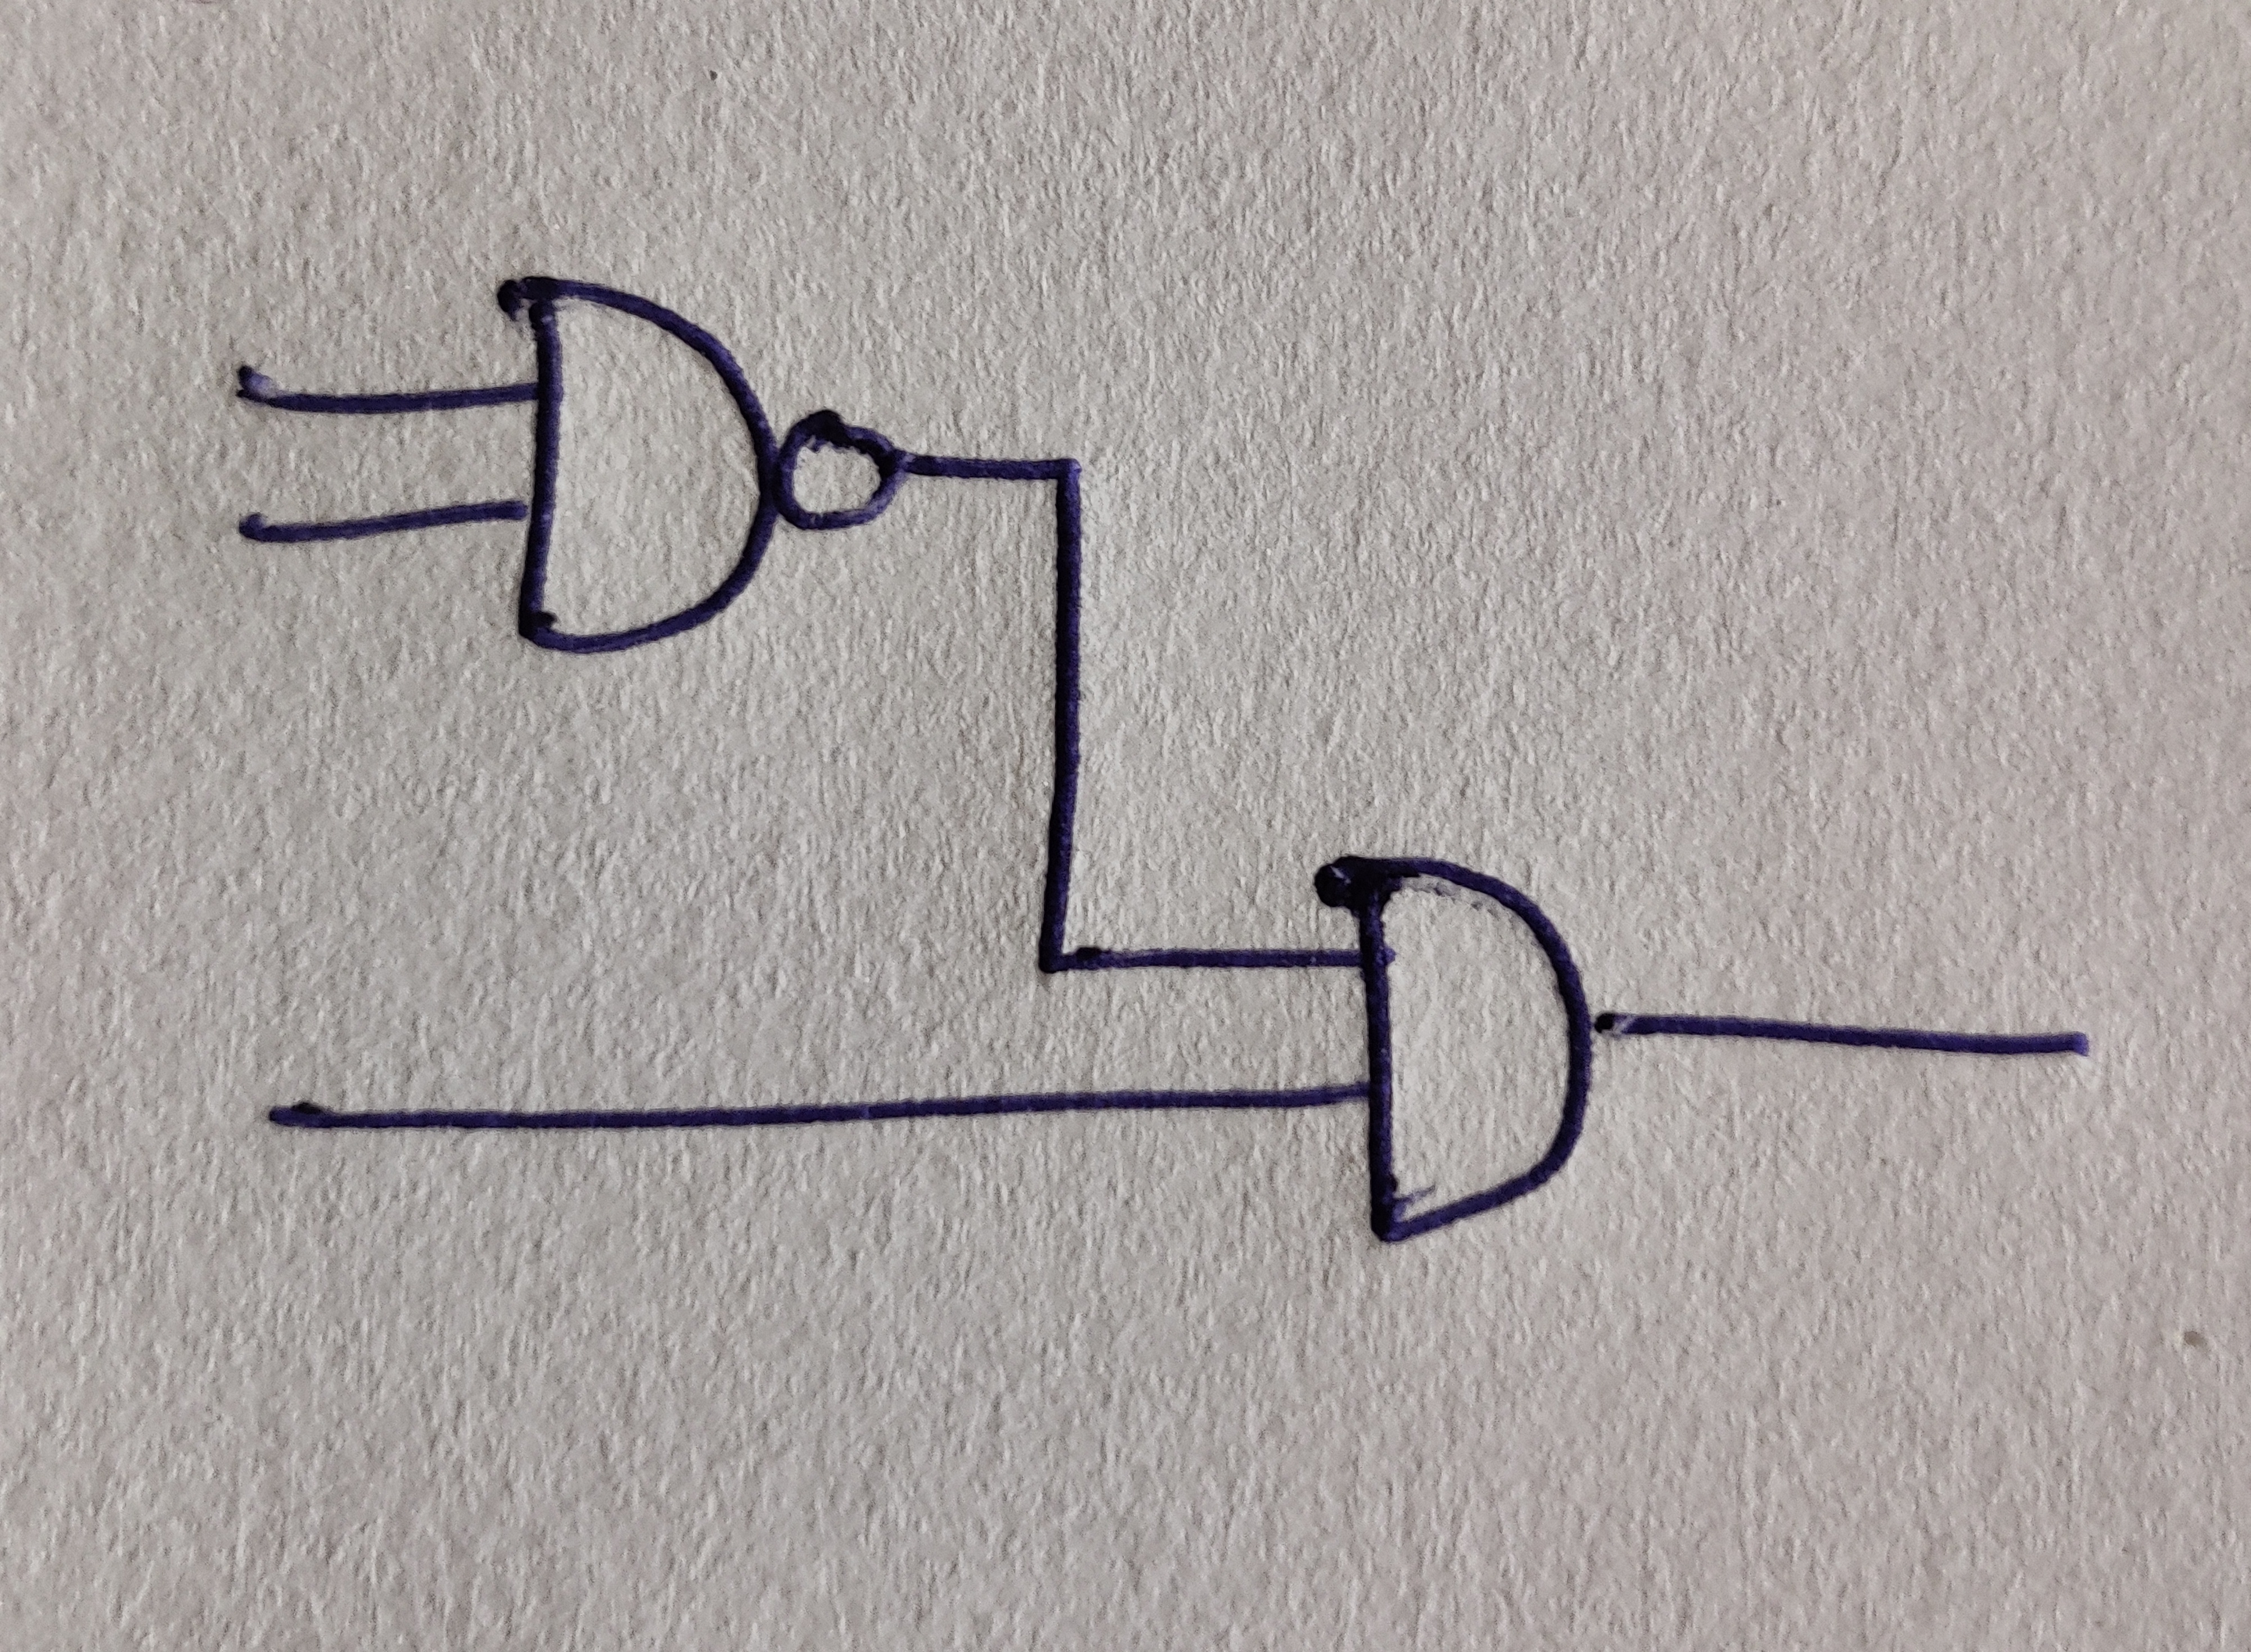and: (1314, 857, 1596, 1245), (498, 278, 779, 656)
not: (776, 409, 905, 530)
